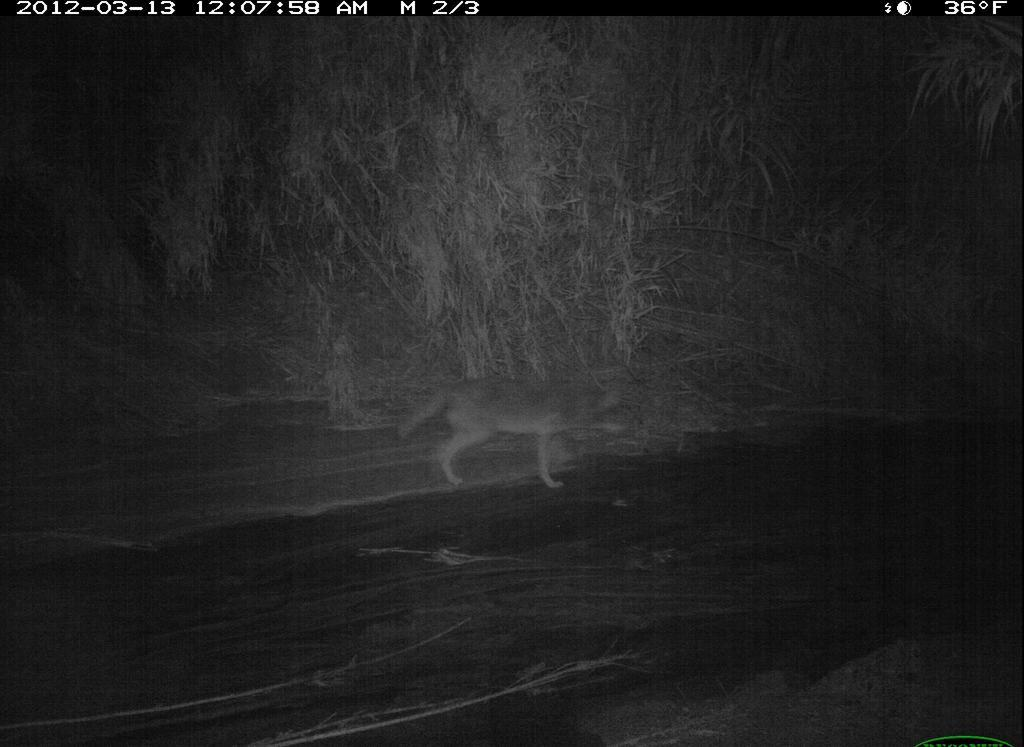coyote: (393, 374, 642, 502)
